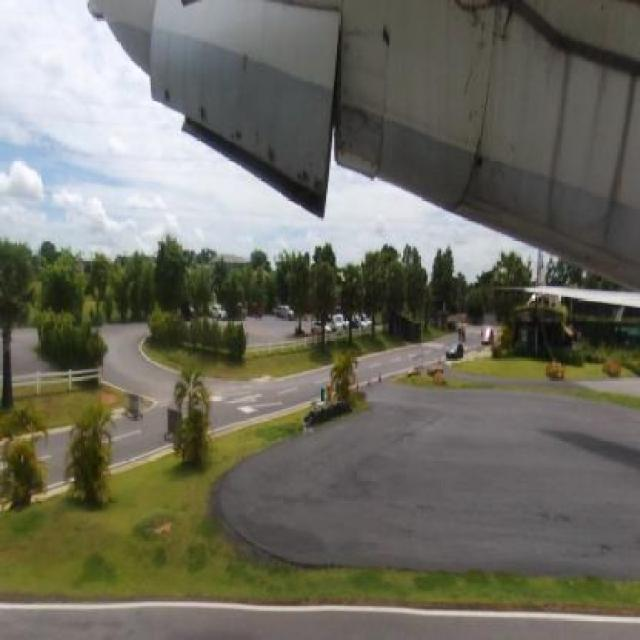Rust: (589, 45, 640, 280), (448, 106, 523, 252), (337, 60, 392, 189), (540, 22, 572, 230), (452, 0, 530, 65), (363, 11, 411, 63), (296, 154, 330, 206), (262, 136, 287, 179), (157, 75, 183, 114), (226, 121, 251, 159), (192, 98, 211, 131)
Scartch: (455, 64, 491, 102)
